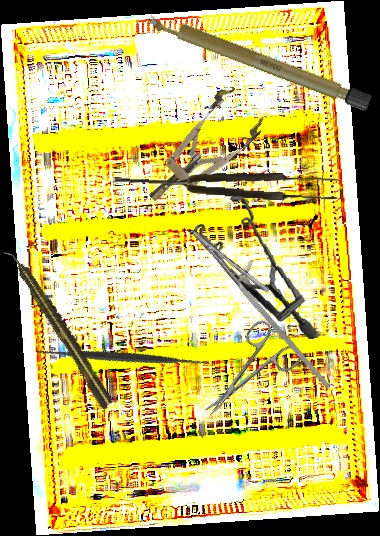Handpiece: (2, 243, 117, 413)
Iris Scissors: (185, 314, 306, 433)
Needle Holder: (175, 218, 358, 390)
Scalpel Handle: (145, 10, 373, 112)
Spatula Surgical: (30, 265, 216, 450)
Speculum: (187, 186, 321, 349), (130, 82, 270, 219)
Tissue Forceps: (111, 164, 340, 204)
